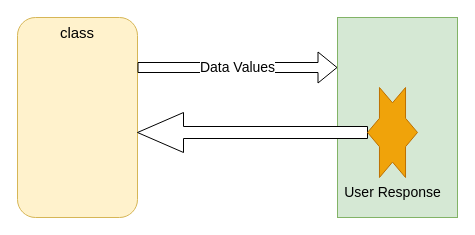
The diagram is 475 pixels wide and 235 high, and some of its shapes have lost their labels. Each missing label, with the box of its shape:
template: (336, 16, 458, 218)
value update & actions: (136, 112, 368, 152)
